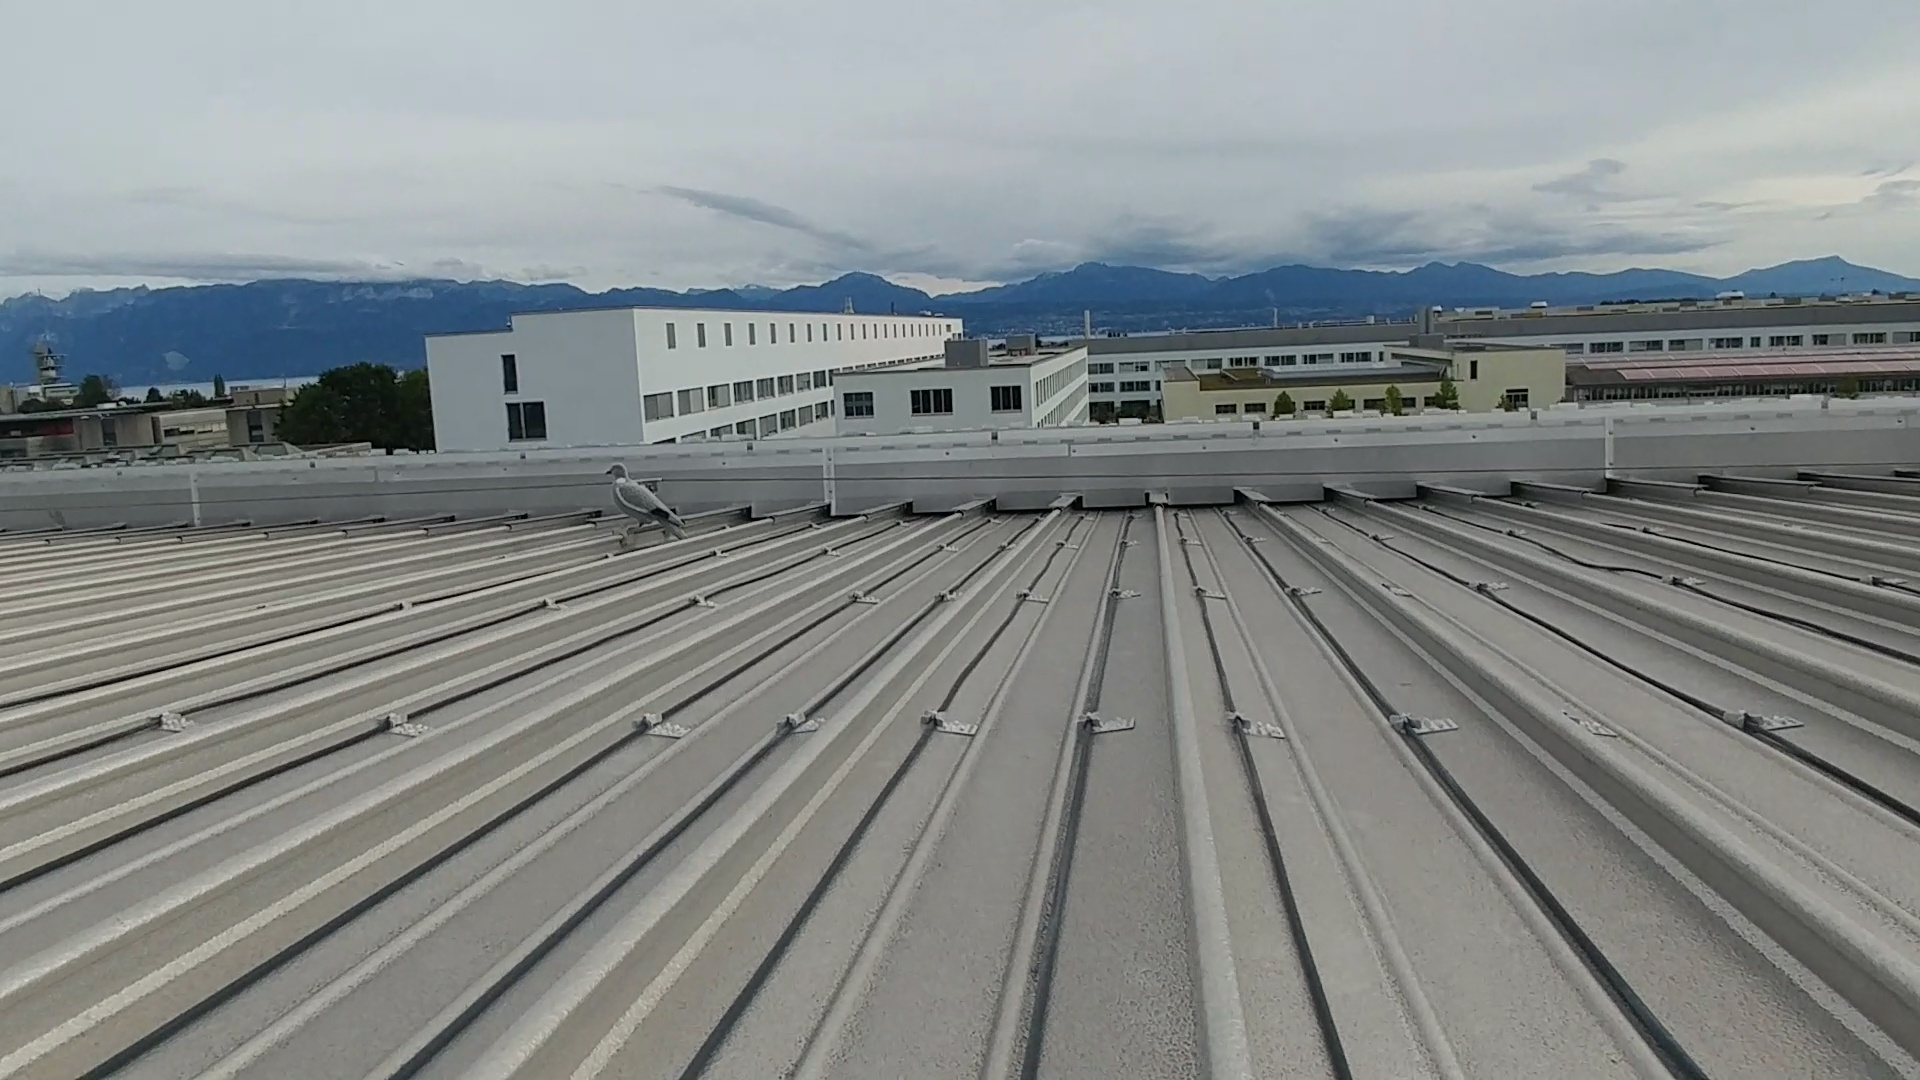Pigeon: (599, 462, 690, 535)
